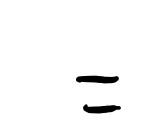eqv: (76, 75, 121, 113)
